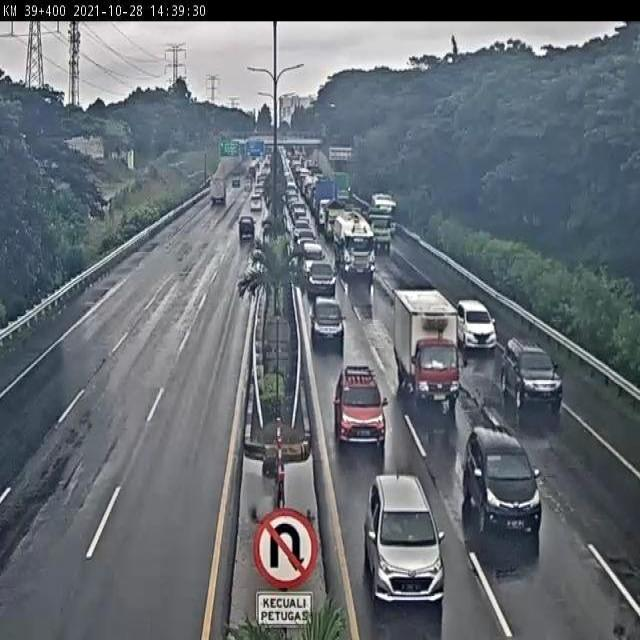ARABA: (362, 466, 449, 614), (464, 426, 547, 538), (500, 330, 564, 410), (331, 362, 391, 446), (451, 289, 495, 351), (309, 284, 346, 349), (309, 262, 335, 298), (301, 244, 324, 276), (238, 214, 255, 238)
KAMYONET: (388, 291, 467, 420), (365, 200, 394, 253)
TIR: (332, 209, 376, 280)
